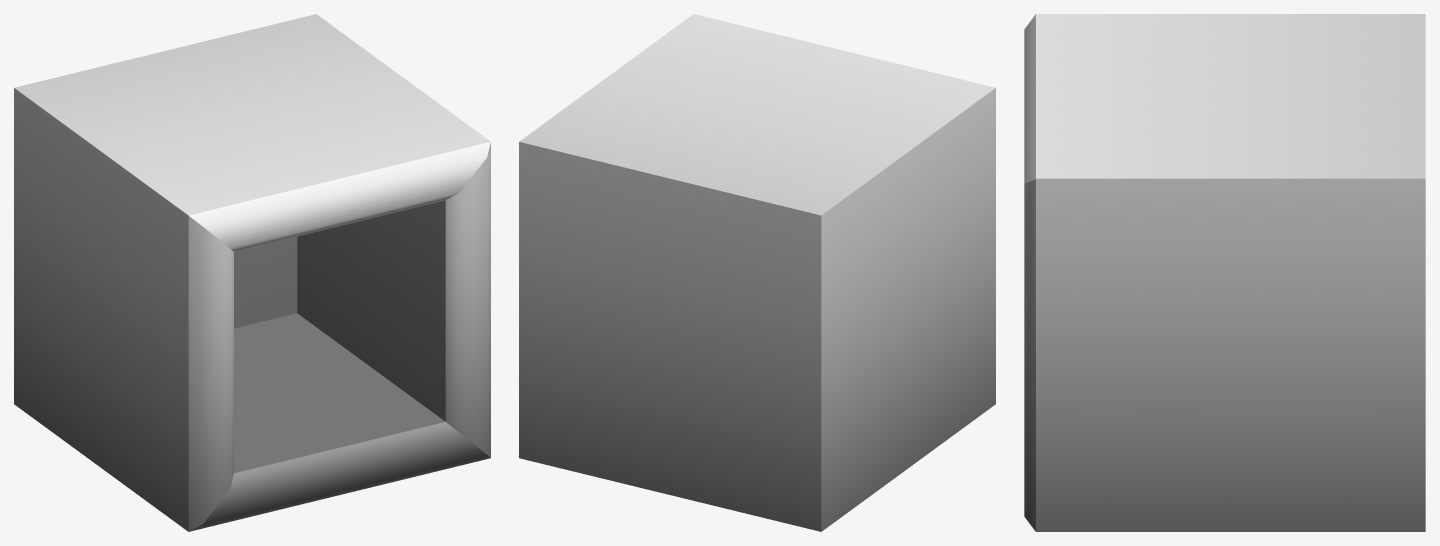
The model's file is ShelfUnit.fbx.
The picture shows the model from 3 angles, left to right: view 1: azimuth 30°, elevation 25°; view 2: azimuth 150°, elevation 25°; view 3: azimuth 270°, elevation 25°; orthographic projection. The views are drawn at different scales.
Visible parts, largest first — view 1: ShelfUnit; view 2: ShelfUnit; view 3: ShelfUnit.
Boxes of the visible parts, x1,y1,x2,y2 form: ShelfUnit: (14, 14, 490, 531); ShelfUnit: (519, 14, 995, 531); ShelfUnit: (1024, 14, 1425, 531).
Size of the model in its own units: 2 by 2 by 2.06.
